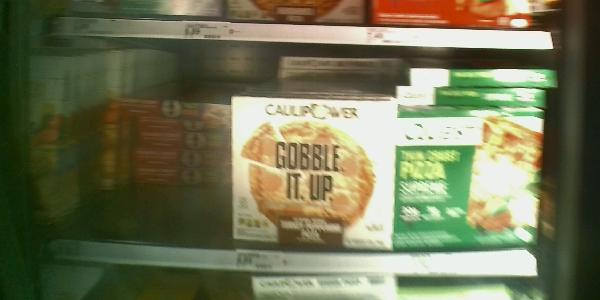pizza: (231, 94, 390, 250), (397, 108, 539, 245)
pizza1: (89, 170, 233, 197), (408, 66, 559, 90), (89, 145, 228, 169), (395, 87, 555, 107), (91, 122, 227, 145), (101, 102, 230, 123), (278, 56, 401, 75), (272, 75, 394, 94)
